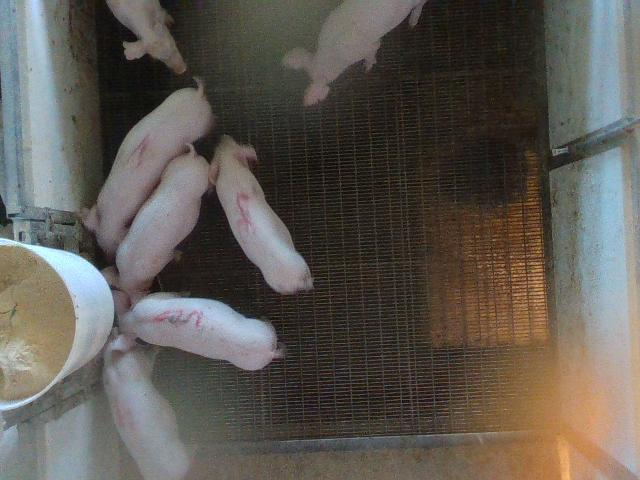pig-1: (82, 79, 214, 256)
pig-3: (108, 292, 284, 370)
pig-4: (102, 342, 190, 479)
pig-5: (210, 135, 312, 294)
